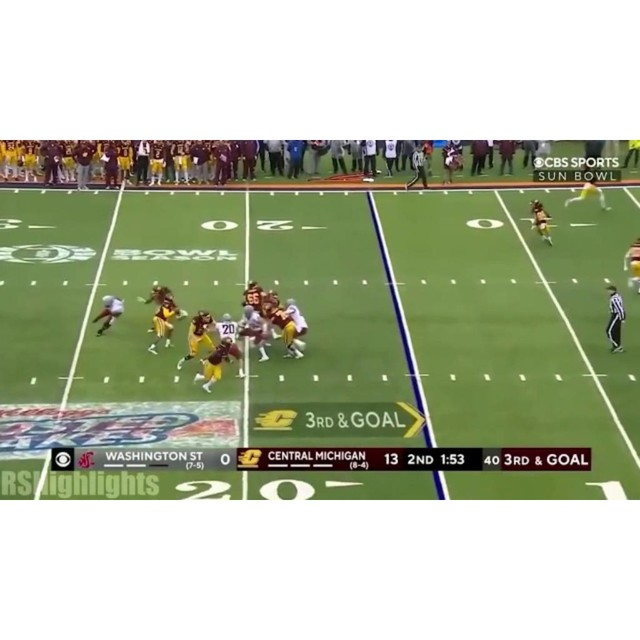american-football-player: (264, 301, 306, 360), (177, 310, 217, 370), (147, 294, 184, 355), (193, 338, 232, 394), (238, 306, 270, 364), (91, 295, 125, 337), (565, 182, 612, 212), (529, 199, 555, 247), (241, 280, 266, 312)
referee: (603, 281, 627, 355), (406, 142, 429, 191)
